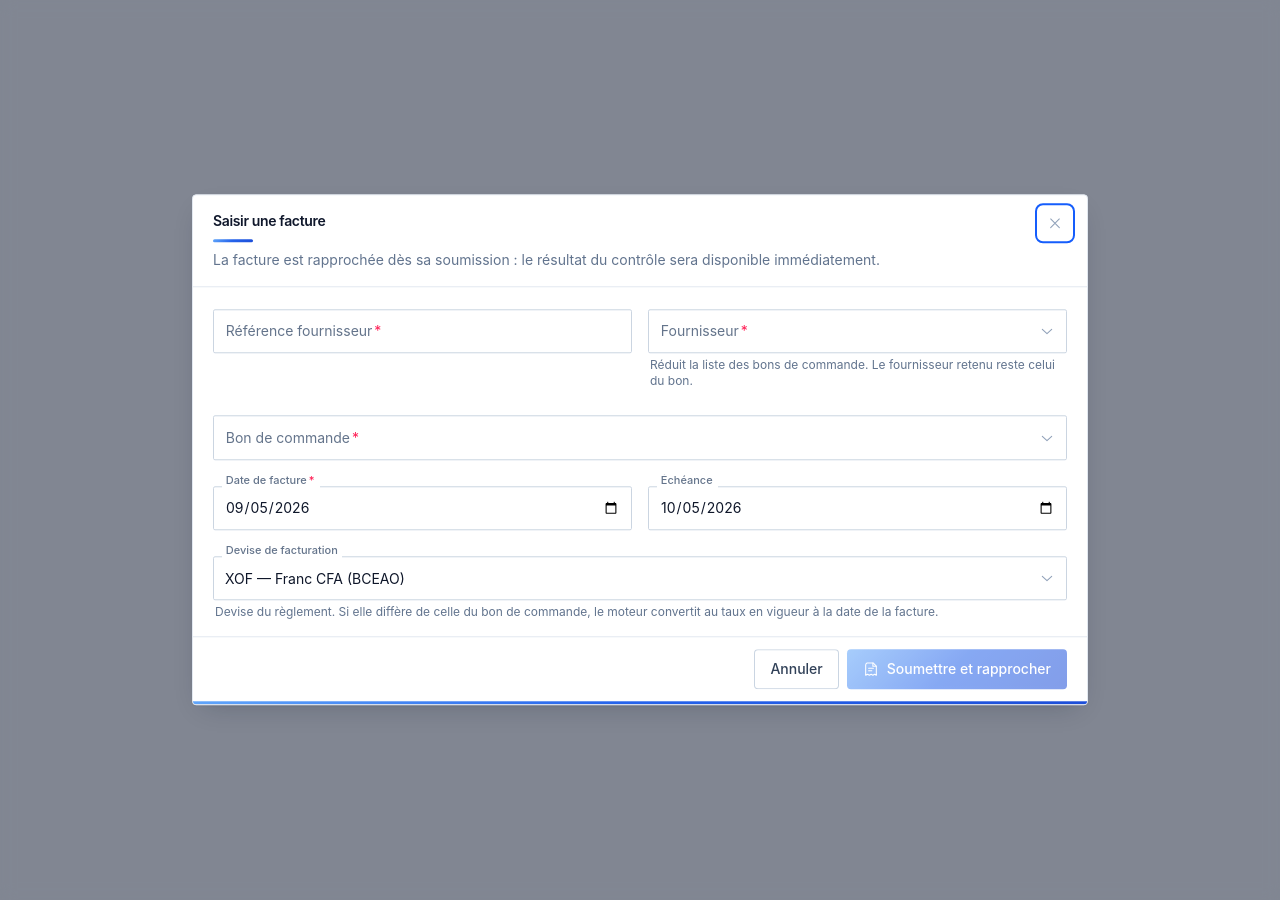
Test case: InvoiceFormDialog › empêche la soumission tant qu'aucune ligne n'est retenue
The width and height of the screenshot is (1280, 900).
Step 1. Click the dropdown labelled "Bon de commande*" → (640, 438), box [213,416,1067,460]
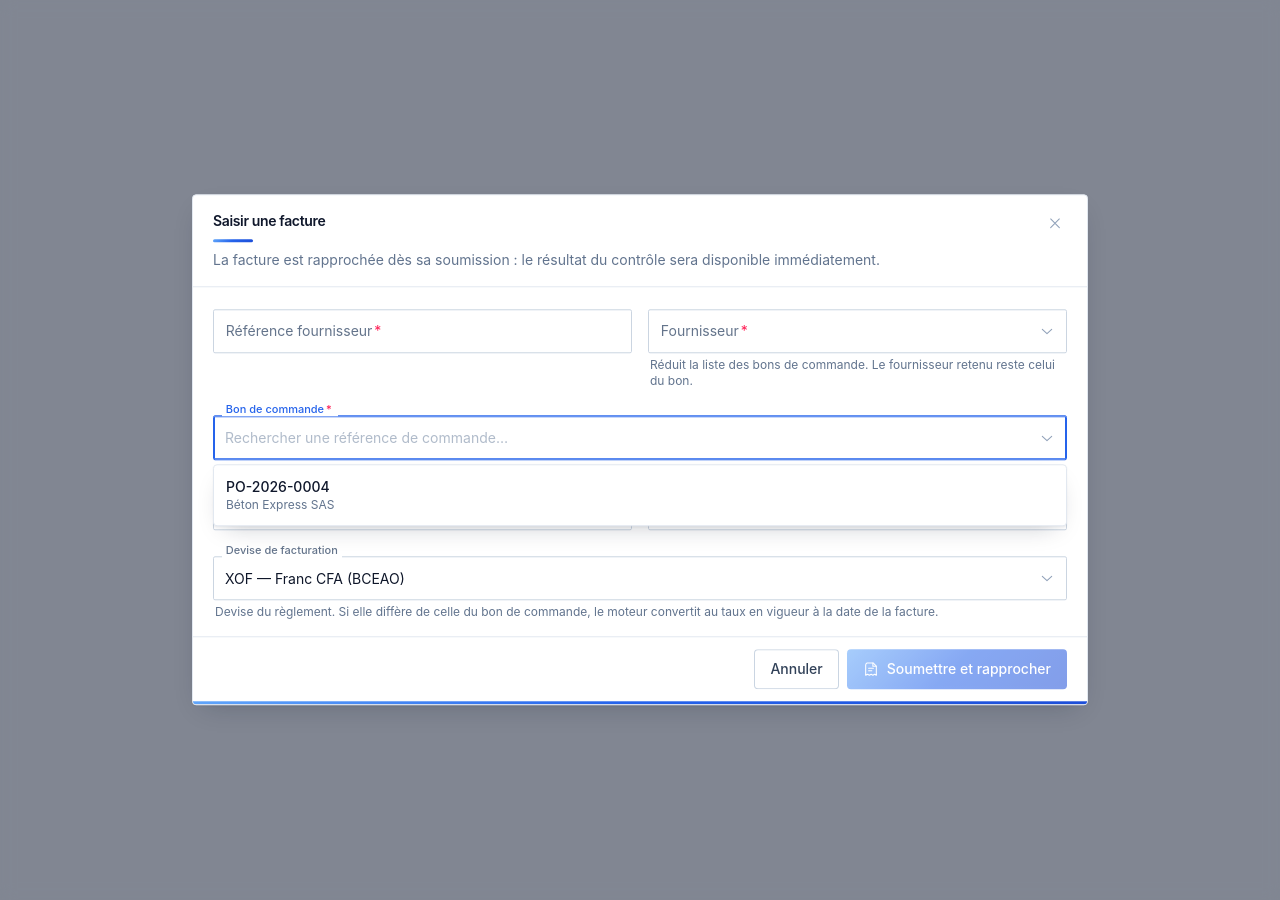
Step 2. Click the option "PO-2026-0004 Béton Express SAS" → (278, 486), box [214,469,1066,521]
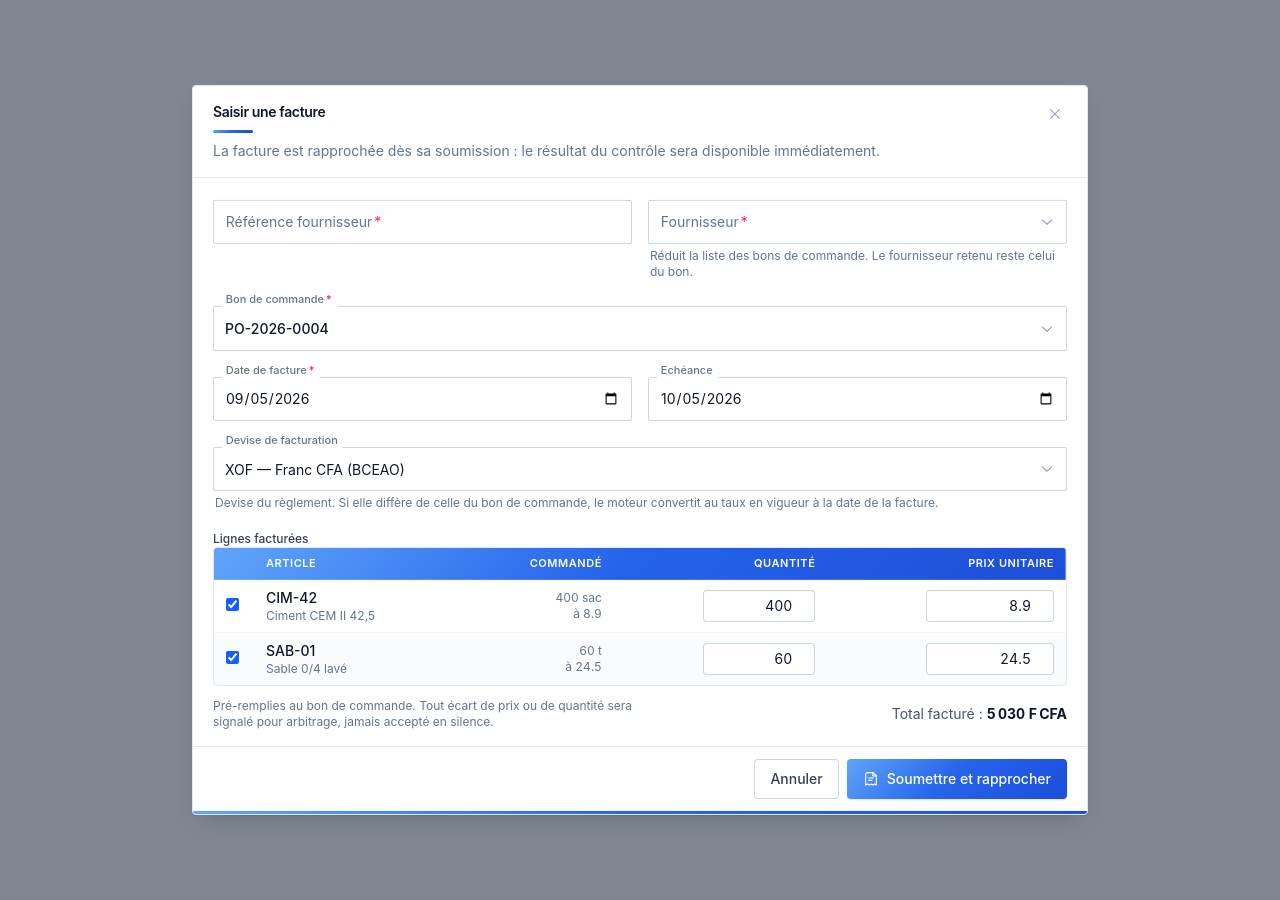
Step 3. Click the checkbox named "Facturer la ligne CIM-42" → (232, 605), box [226,598,239,611]
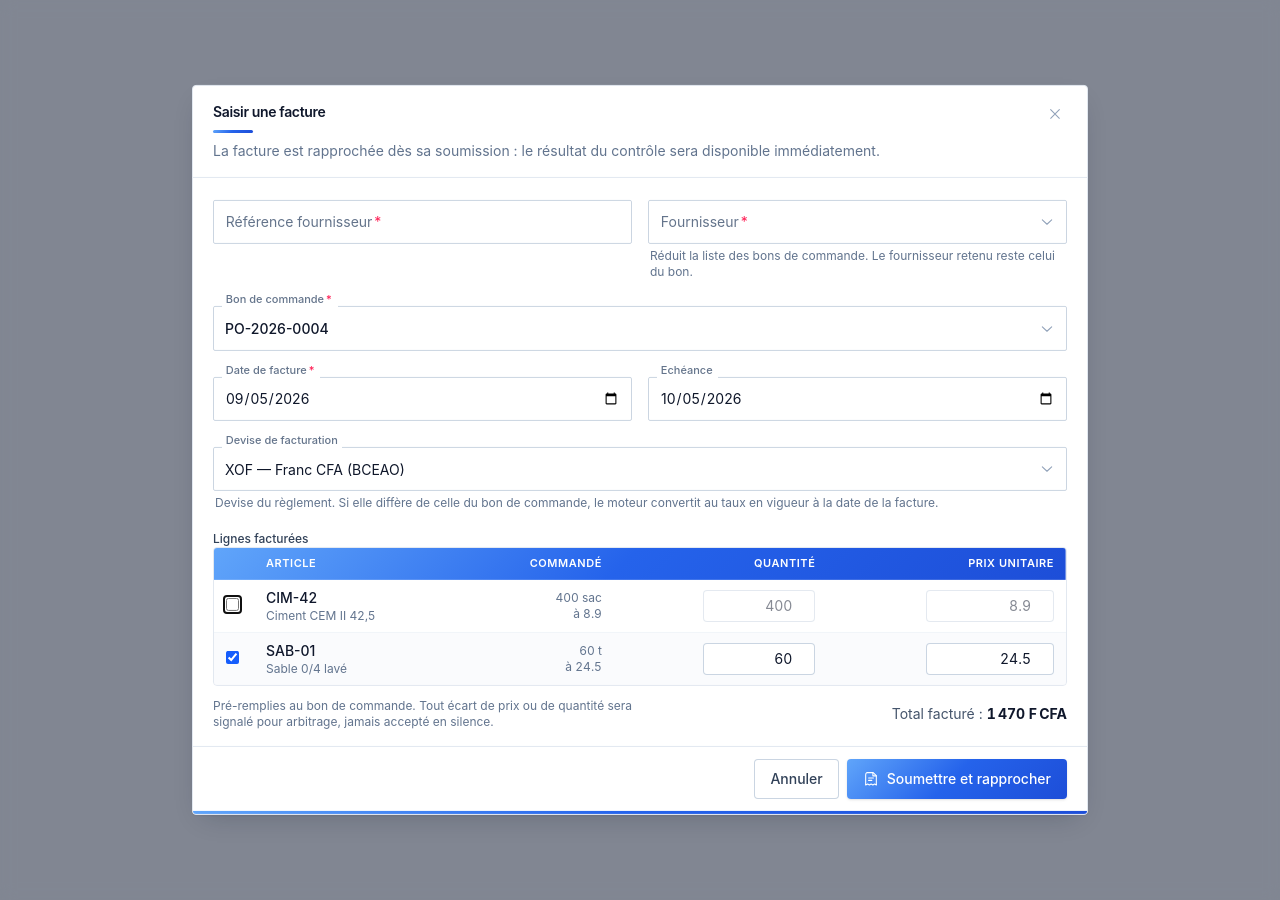
Step 4. Click the checkbox named "Facturer la ligne SAB-01" → (232, 658), box [226,651,239,664]
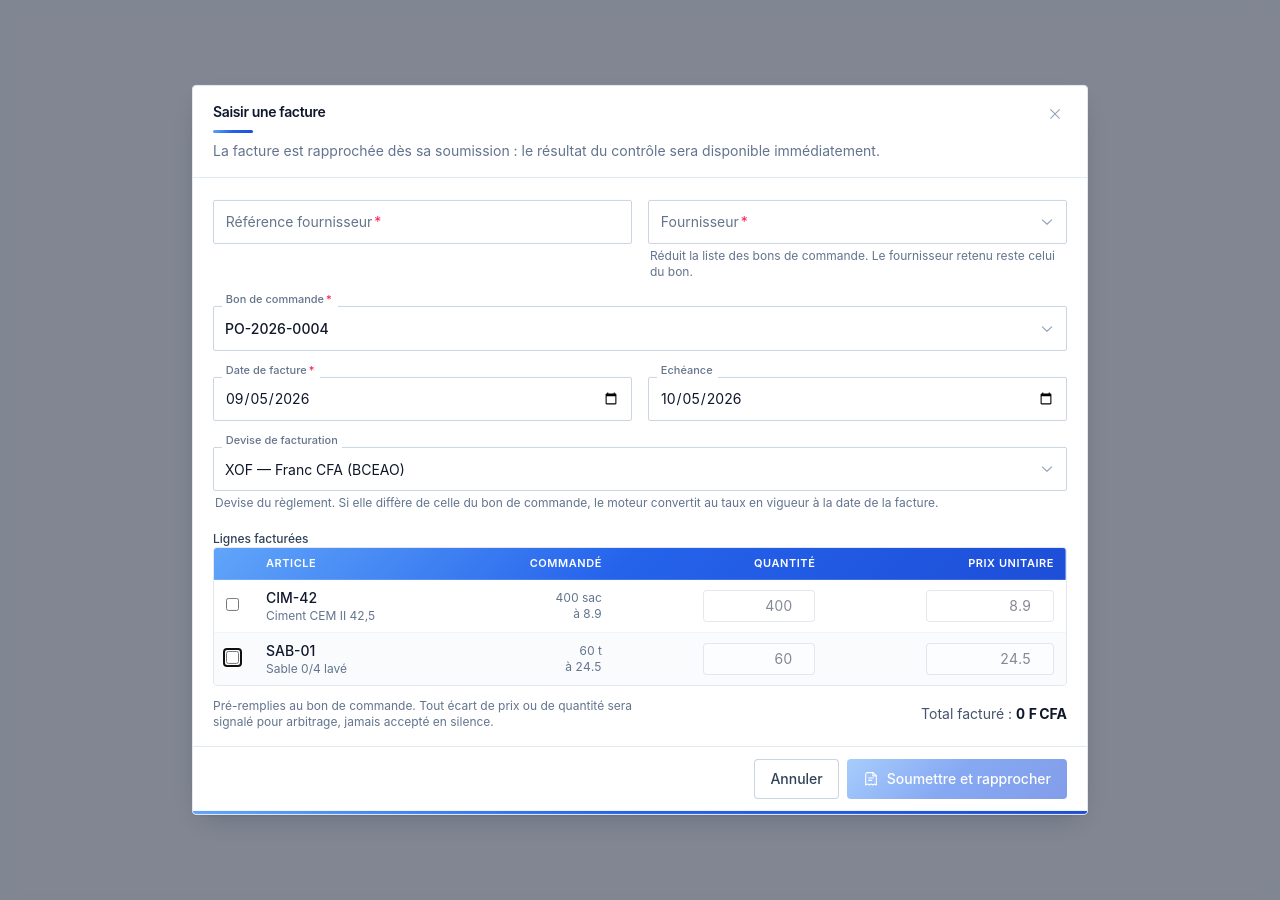
Check: the button "Soumettre et rapprocher" is disabled, box [847,759,1067,799]
